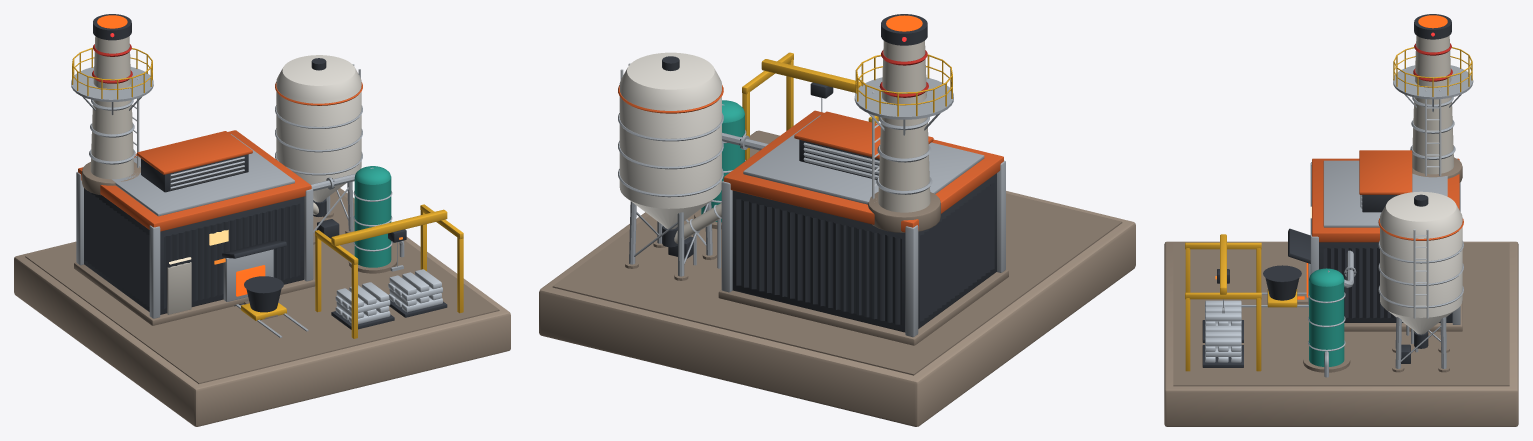
Rendered from iron_refinery.glb.
The picture shows the model from 3 angles, left to right: view 1: azimuth 30°, elevation 25°; view 2: azimuth 150°, elevation 25°; view 3: azimuth 270°, elevation 25°; orthographic projection. The views are drawn at different scales.
Visible parts, largest first — view 1: iron_refinery; view 2: iron_refinery; view 3: iron_refinery.
Part boxes in pixels (box(x1,y1,x2,y2)): iron_refinery: box(14, 14, 510, 426); iron_refinery: box(539, 14, 1135, 426); iron_refinery: box(1164, 14, 1518, 426).
Size of the model in its own units: 6 by 5.29 by 6.
